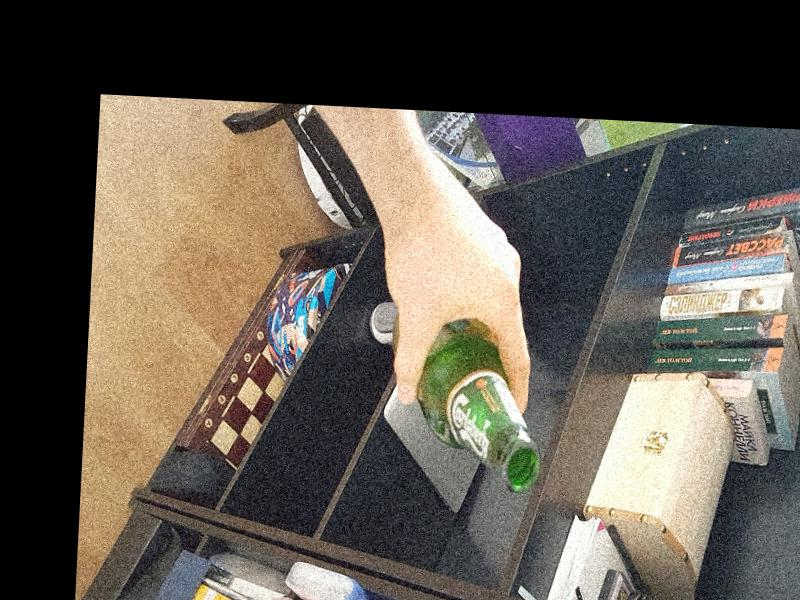Beer: (384, 304, 546, 494)
